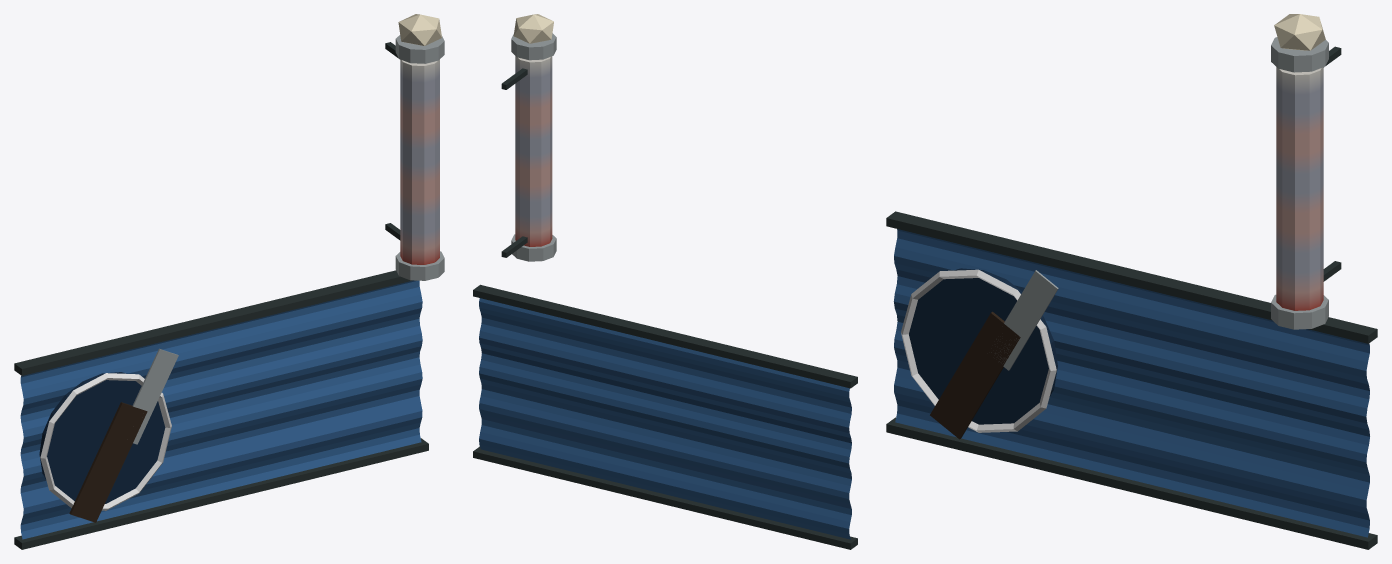
Rendered from bang_hot_toc_binh_dan_32.glb.
The picture shows the model from 3 angles, left to right: view 1: azimuth 30°, elevation 25°; view 2: azimuth 150°, elevation 25°; view 3: azimuth 330°, elevation 25°; orthographic projection. The views are drawn at different scales.
Visible parts, largest first — view 1: bang_hot_toc_binh_dan_32; view 2: bang_hot_toc_binh_dan_32; view 3: bang_hot_toc_binh_dan_32.
Part boxes in pixels (left/top/right/bottom): bang_hot_toc_binh_dan_32: left=14, top=14, right=444, bottom=549; bang_hot_toc_binh_dan_32: left=473, top=14, right=857, bottom=549; bang_hot_toc_binh_dan_32: left=886, top=14, right=1377, bottom=549.
Size of the model in its own units: 3.06 by 3.32 by 0.5722.
